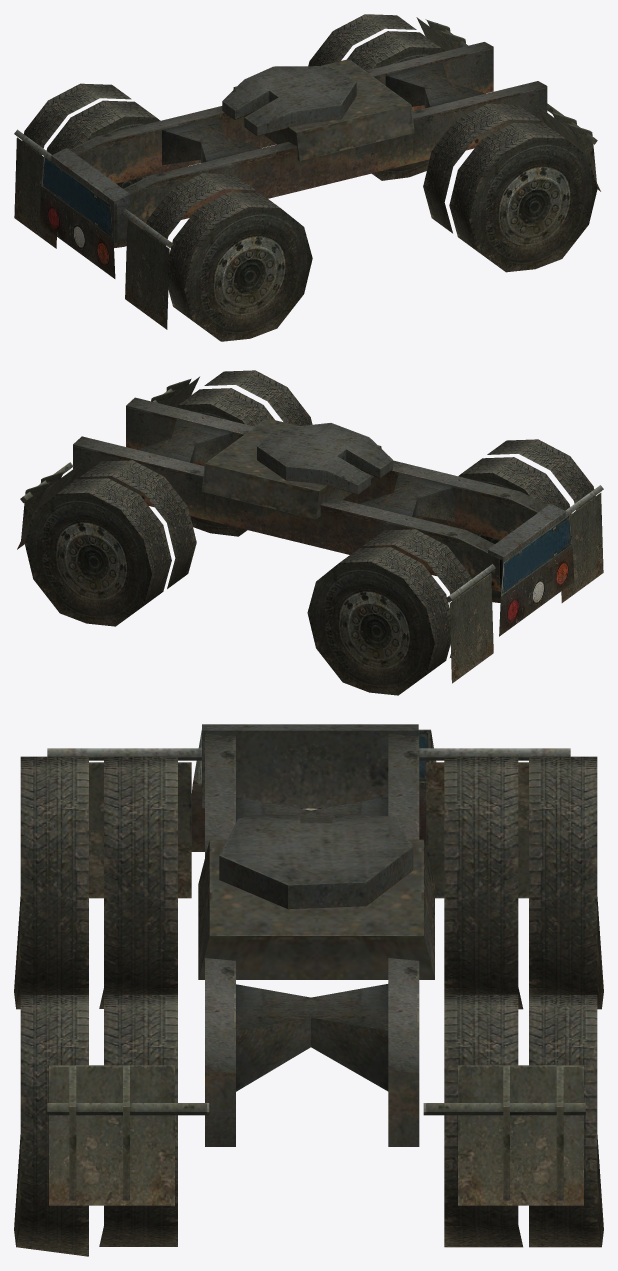
Rendered from Cover_Truck02a_lod1.glb.
3 renders of one model, top to bottom at view 1: azimuth 30°, elevation 25°; view 2: azimuth 150°, elevation 25°; view 3: azimuth 270°, elevation 25°, orthographic. The views are drawn at different scales.
Parts seen in each view (by area): view 1: xiutz_truck_02a_lod1; view 2: xiutz_truck_02a_lod1; view 3: xiutz_truck_02a_lod1.
Part boxes in pixels (<box>): xiutz_truck_02a_lod1: <box>14,14,600,341</box>; xiutz_truck_02a_lod1: <box>17,370,603,695</box>; xiutz_truck_02a_lod1: <box>14,724,603,1256</box>.
Size of the model in its own units: 6.64 by 2.2 by 4.42.
1 material, 1 textured.
